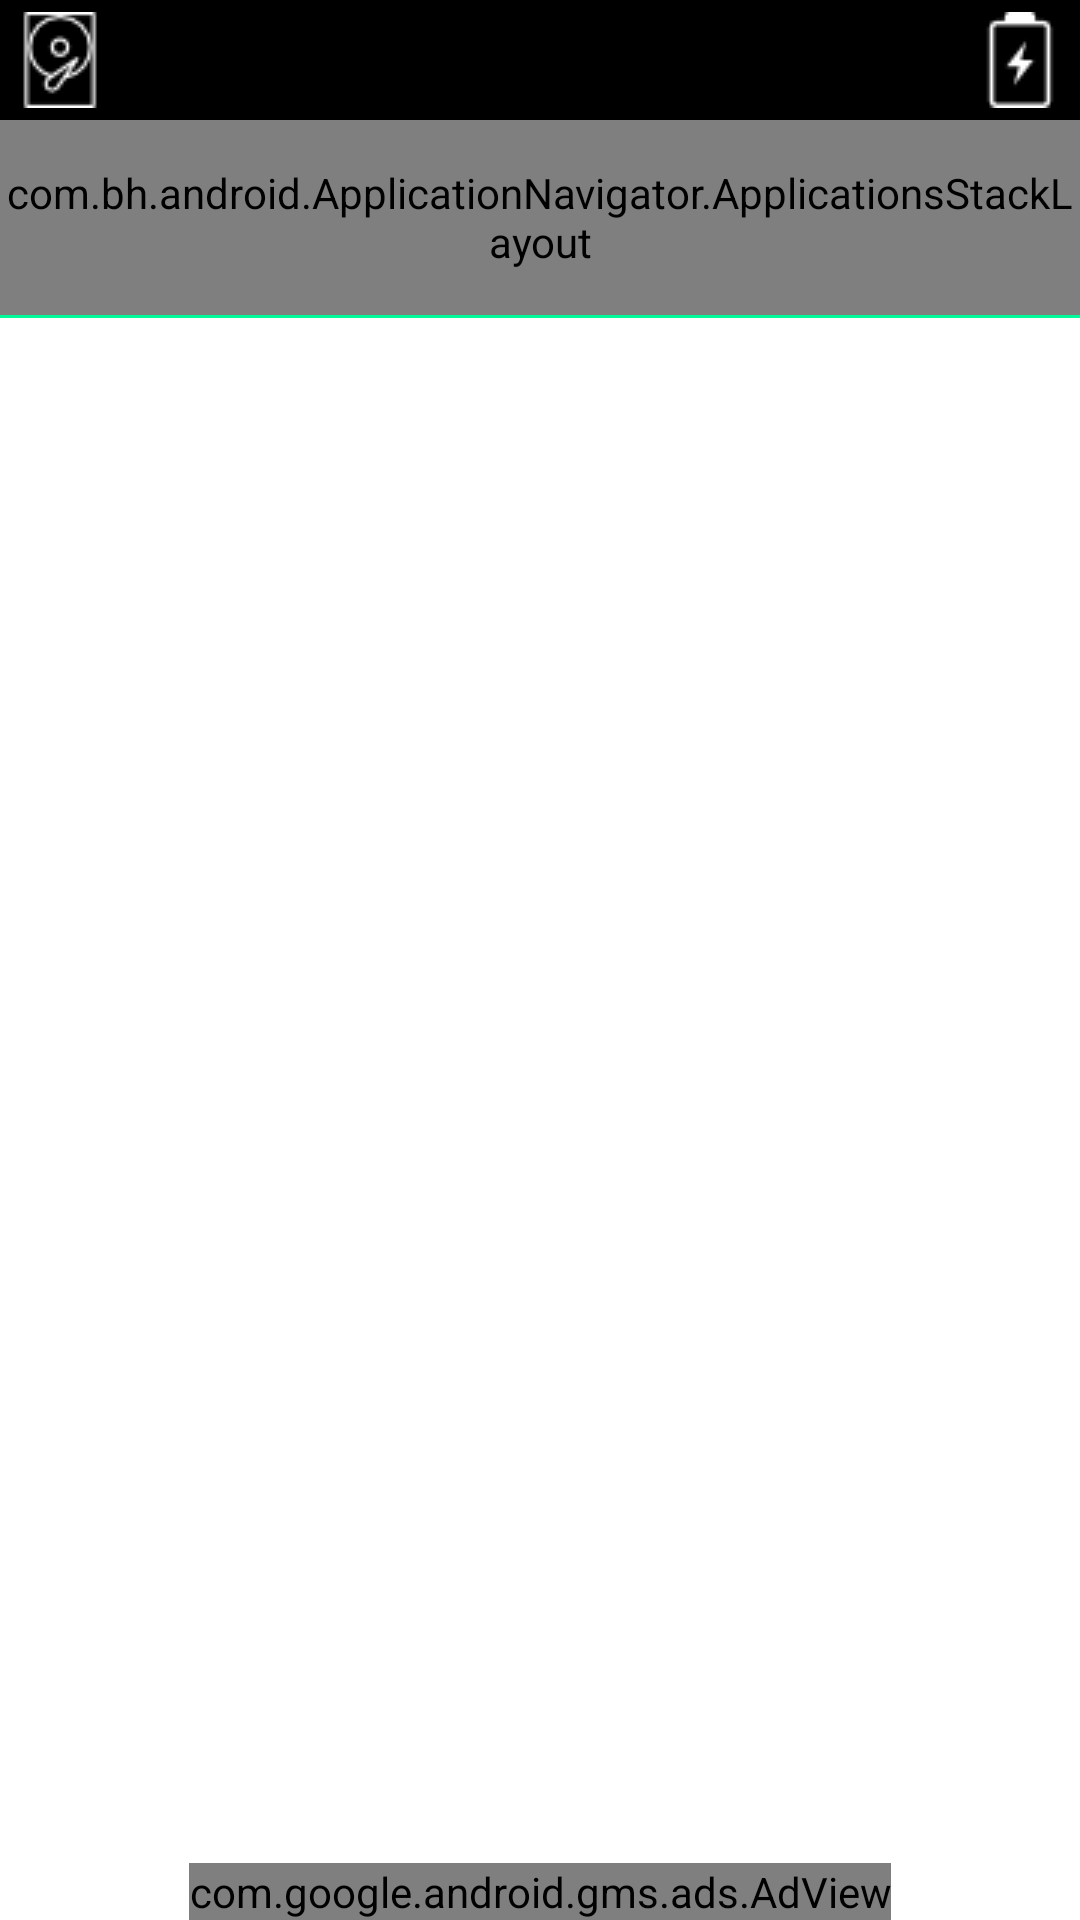

Screen size 1080 × 1920. Icon name, then its box in pixels as (x1=x1, y1=y1, x2=x2, y2=y2):
battery: (x1=987, y1=12, x2=1053, y2=108)
disk: (x1=23, y1=12, x2=97, y2=108)
